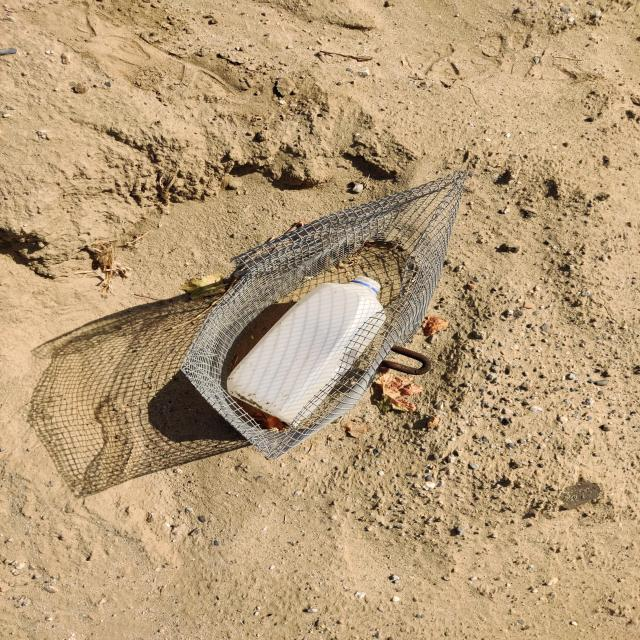litter: (182, 174, 459, 459), (225, 275, 384, 428)
